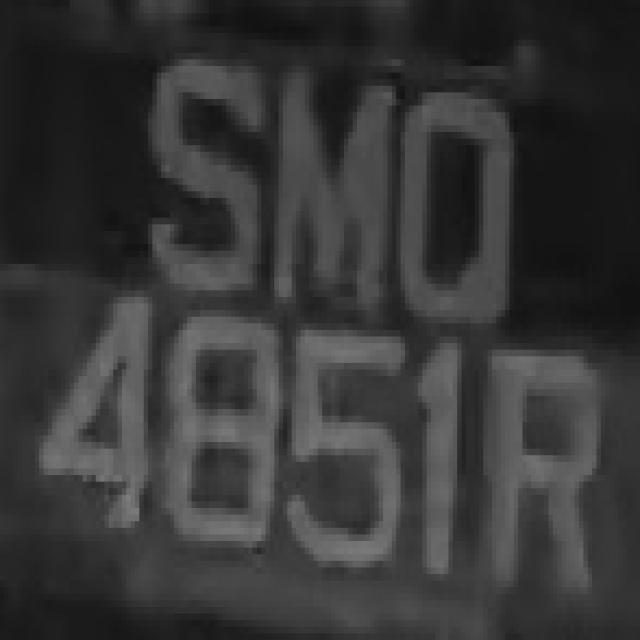1: (414, 310, 466, 607)
4: (17, 264, 157, 581)
5: (270, 304, 409, 587)
8: (148, 290, 292, 581)
M: (253, 33, 396, 336)
Q: (383, 79, 514, 363)
R: (462, 317, 605, 594)
S: (126, 26, 248, 317)
